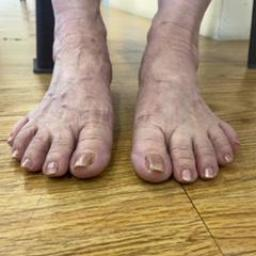Front View -Both Feet-: (1, 10, 251, 194)
